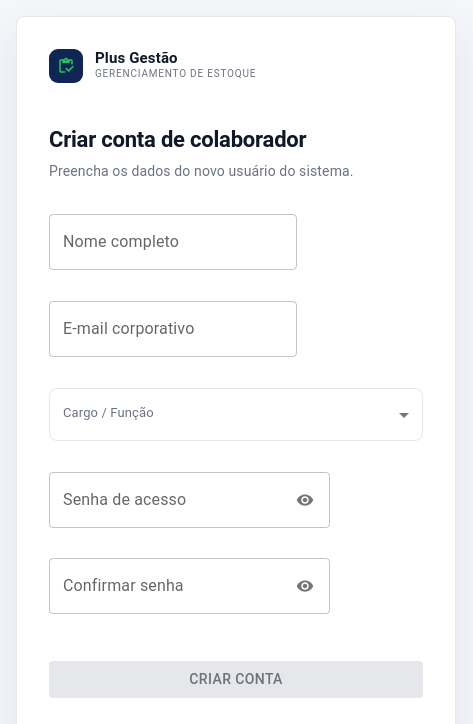
Test: SignupPage — Criar Conta de Colaborador › exibe opções de cargo: Vendedor, Gestor, Administrador
Click the dropdown at (236, 415), box [49, 388, 423, 441]
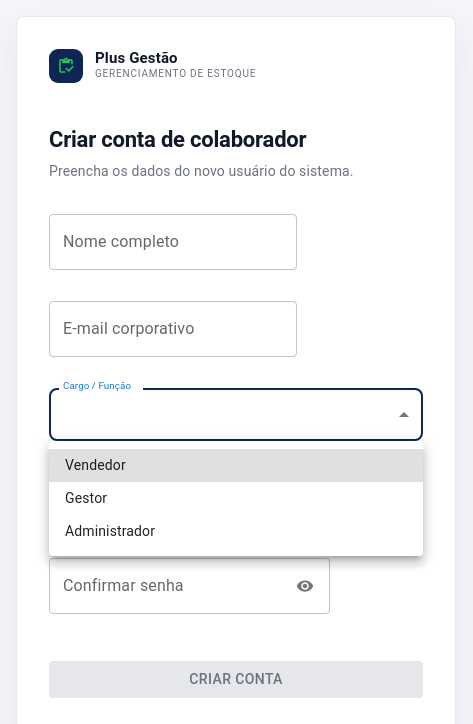
Result: the option "Vendedor" is shown at [49, 449, 423, 482]
Result: the option "Gestor" is shown at [65, 490, 107, 506]
Result: the option "Administrador" is shown at [65, 523, 155, 539]
